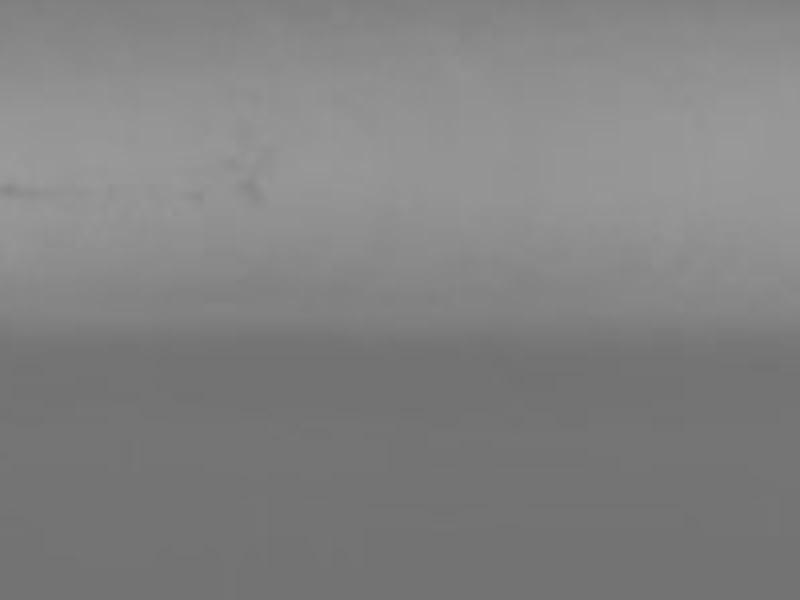defect: (236, 177, 267, 206), (182, 187, 205, 206), (2, 183, 20, 201)
